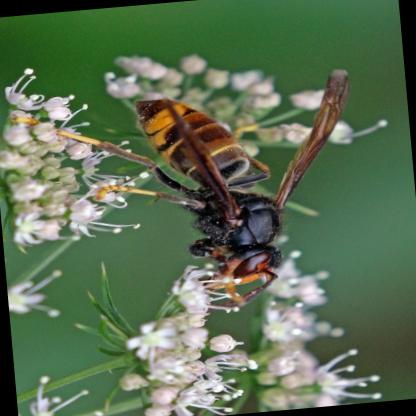asian: (61, 62, 365, 322)
